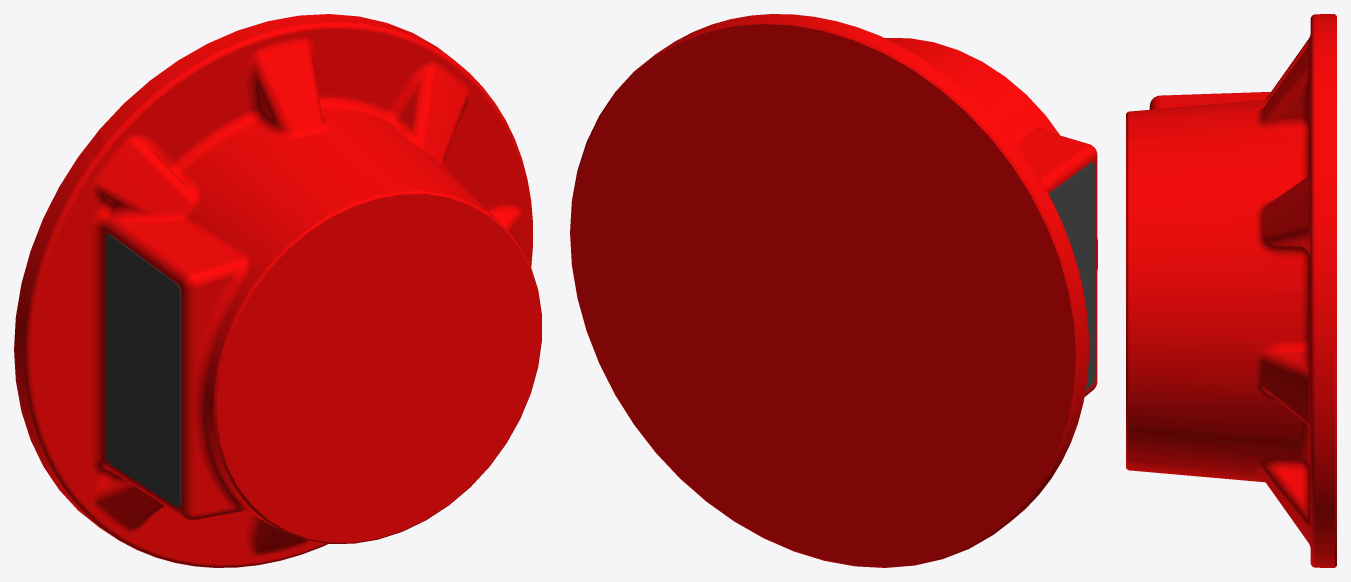
3 renders of one model, left to right at view 1: azimuth 30°, elevation 25°; view 2: azimuth 150°, elevation 25°; view 3: azimuth 270°, elevation 25°, orthographic. The views are drawn at different scales.
Visible parts, largest first — view 1: _3DGeom_171_geo_0.016, _3DGeom_172_geo_1.016; view 2: _3DGeom_171_geo_0.016, _3DGeom_172_geo_1.016; view 3: _3DGeom_171_geo_0.016.
Boxes of the visible parts, left/top/right/bottom form: _3DGeom_171_geo_0.016: left=14, top=14, right=541, bottom=567; _3DGeom_172_geo_1.016: left=105, top=234, right=180, bottom=507; _3DGeom_171_geo_0.016: left=570, top=14, right=1097, bottom=567; _3DGeom_172_geo_1.016: left=1048, top=162, right=1095, bottom=390; _3DGeom_171_geo_0.016: left=1126, top=14, right=1336, bottom=567.
Bounding box in the file's own units: 0.2105 × 0.2105 × 0.08.
